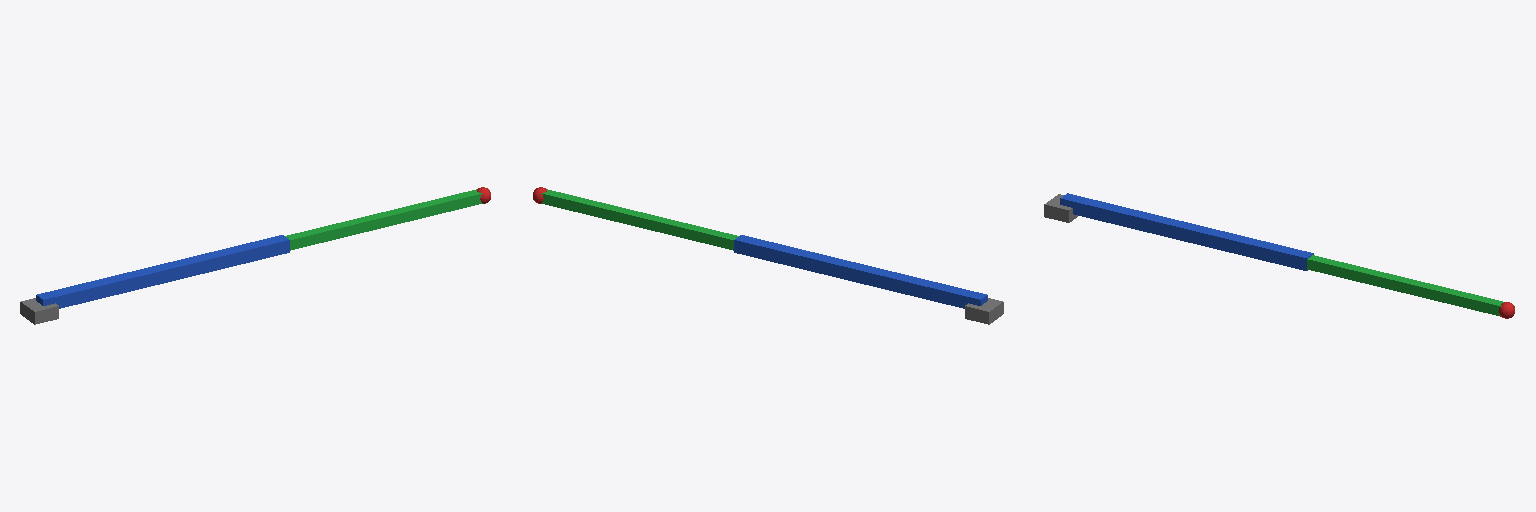
URDF robot description (two_link_arm):
<?xml version="1.0"?>
<!-- 根元素：一份 URDF 描述一棵树；name 仅作文档标识 -->
<robot name="two_link_arm">

  <!-- ==================== Links ==================== -->
  <!-- 约定：每根连杆的 link 原点放在「靠近父关节」的一端；长方体 visual 的 origin 把几何中心摆到杆件中段 -->

  <!-- 基座：通常作为整机的根 link；是否「在世界中固定」由外层 joint 或仿真决定，URDF 里只描述形状 -->
  <link name="base_link">
    <visual>
      <!-- 盒子尺寸 0.1×0.1×0.05（米）；几何中心相对 link 原点抬高 0.025，使盒子底面落在 z=0 -->
      <origin xyz="0 0 0.025" rpy="0 0 0"/>
      <geometry>
        <box size="0.1 0.1 0.05"/>
      </geometry>
      <material name="gray">
        <color rgba="0.5 0.5 0.5 1.0"/>
      </material>
    </visual>
    <collision>
      <!-- 规划与碰撞检测用；常与 visual 同形，也可单独简化 -->
      <origin xyz="0 0 0.025" rpy="0 0 0"/>
      <geometry>
        <box size="0.1 0.1 0.05"/>
      </geometry>
    </collision>
  </link>

  <!-- 连杆 1：杆长 1.0 m（x 方向）；link 原点在父关节处（与 joint1 子端重合） -->
  <link name="link1">
    <visual>
      <!-- 杆沿 +x 延伸：中心在 x=0.5，故 origin x=0.5，与 box 长度 1.0 一致 -->
      <origin xyz="0.5 0 0" rpy="0 0 0"/>
      <geometry>
        <box size="1.0 0.05 0.05"/>
      </geometry>
      <material name="blue">
        <color rgba="0.2 0.4 0.8 1.0"/>
      </material>
    </visual>
    <collision>
      <origin xyz="0.5 0 0" rpy="0 0 0"/>
      <geometry>
        <box size="1.0 0.05 0.05"/>
      </geometry>
    </collision>
  </link>

  <!-- 连杆 2：杆长 0.8 m；原点同样在靠近 joint2 的一端 -->
  <link name="link2">
    <visual>
      <origin xyz="0.4 0 0" rpy="0 0 0"/>
      <geometry>
        <box size="0.8 0.04 0.04"/>
      </geometry>
      <material name="green">
        <color rgba="0.2 0.7 0.3 1.0"/>
      </material>
    </visual>
    <collision>
      <origin xyz="0.4 0 0" rpy="0 0 0"/>
      <geometry>
        <box size="0.8 0.04 0.04"/>
      </geometry>
    </collision>
  </link>

  <!-- 末端执行器：无碰撞模型也可（仅显示）；球心与 link 原点重合 -->
  <link name="end_effector">
    <visual>
      <origin xyz="0 0 0" rpy="0 0 0"/>
      <geometry>
        <sphere radius="0.03"/>
      </geometry>
      <material name="red">
        <color rgba="0.8 0.2 0.2 1.0"/>
      </material>
    </visual>
  </link>

  <!-- ==================== Joints ==================== -->
  <!-- 平面臂：两关节轴均平行于 z，在 xy 平面内摆动 -->

  <!-- joint1：子 link1 的原点贴在父 base_link 上；z=0.05 为基座顶面（台座高 0.05） -->
  <joint name="joint1" type="revolute">
    <parent link="base_link"/>
    <child link="link1"/>
    <origin xyz="0 0 0.05" rpy="0 0 0"/>
    <axis xyz="0 0 1"/>
    <!-- ±90°；effort/velocity 为占位，与 1.3 节 limit 说明一致 -->
    <limit lower="-1.5708" upper="1.5708" effort="10.0" velocity="1.0"/>
  </joint>

  <!-- joint2：父为 link1；origin x=1.0 即 link1 几何末端（杆长 1.0），第二段从此处接出 -->
  <joint name="joint2" type="revolute">
    <parent link="link1"/>
    <child link="link2"/>
    <origin xyz="1.0 0 0" rpy="0 0 0"/>
    <axis xyz="0 0 1"/>
    <!-- 约 ±120° -->
    <limit lower="-2.0944" upper="2.0944" effort="10.0" velocity="1.0"/>
  </joint>

  <!-- fixed：无自由度；用于安装法兰、工具或纯可视化标记 -->
  <joint name="ee_joint" type="fixed">
    <parent link="link2"/>
    <child link="end_effector"/>
    <!-- link2 杆长 0.8，末端在父系 +x=0.8；ee 的 link 原点即末端点 -->
    <origin xyz="0.8 0 0" rpy="0 0 0"/>
  </joint>

  <!-- ros2_control：使用 mock hardware，让控制器能接管关节状态 -->
  <ros2_control name="two_link_arm" type="system">
    <hardware>
      <plugin>mock_components/GenericSystem</plugin>
    </hardware>
    <joint name="joint1">
      <command_interface name="position"/>
      <state_interface name="position">
        <param name="initial_value">0.0</param>
      </state_interface>
      <state_interface name="velocity"/>
    </joint>
    <joint name="joint2">
      <command_interface name="position"/>
      <state_interface name="position">
        <param name="initial_value">0.0</param>
      </state_interface>
      <state_interface name="velocity"/>
    </joint>
  </ros2_control>

</robot>

--- Render facts (derived) ---
The picture shows the robot from 3 angles, left to right: view 1: azimuth 30°, elevation 25°; view 2: azimuth 150°, elevation 25°; view 3: azimuth 330°, elevation 25°; orthographic projection.
Robot: two_link_arm — 4 links, 3 joints (2 revolute, 1 fixed); root link base_link; default pose: every joint at zero.
Links seen in each view (by area): view 1: link1, link2, base_link; view 2: link1, link2, base_link; view 3: link1, link2, base_link.
Boxes of the visible links, x1,y1,x2,y2 form: link1: (36, 235, 289, 308); link2: (285, 189, 482, 250); base_link: (20, 298, 58, 324); link1: (734, 235, 987, 308); link2: (541, 189, 738, 250); base_link: (965, 298, 1003, 324); link1: (1060, 193, 1313, 270); link2: (1307, 255, 1503, 316); base_link: (1044, 194, 1077, 222).
Bounding box of the posed robot: 1.88 × 0.1 × 0.08 m (x, y, z).
Geometry: primitives only (box / cylinder / sphere), no mesh files.
